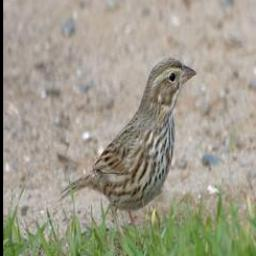Sparrow: (59, 50, 199, 256)
